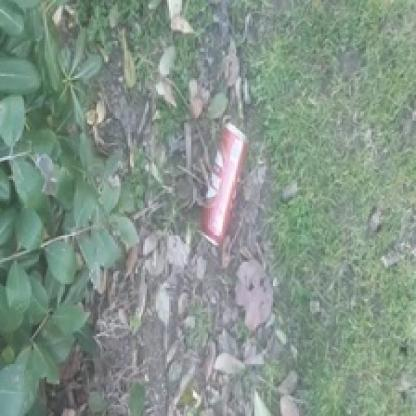Can: (183, 119, 256, 250)
